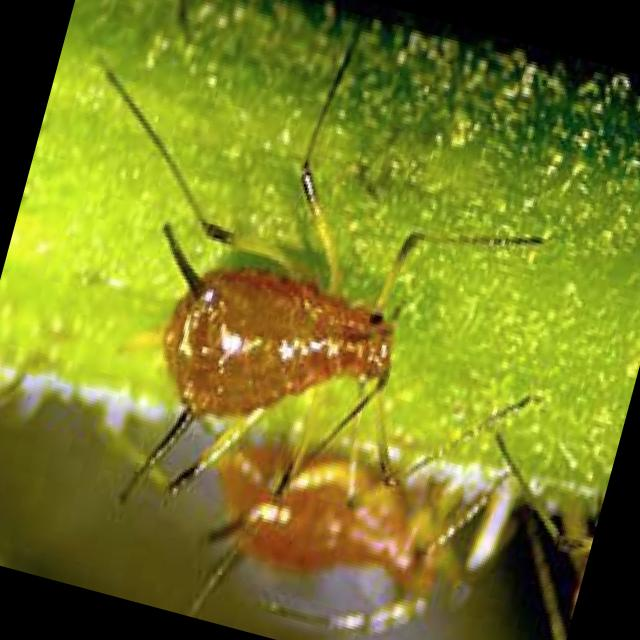Aphids: (57, 70, 507, 500), (190, 423, 493, 640)
